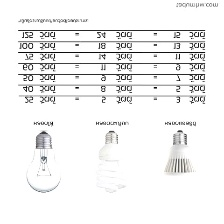light_bulb: (22, 129, 64, 195), (161, 126, 199, 195), (92, 127, 129, 196)
